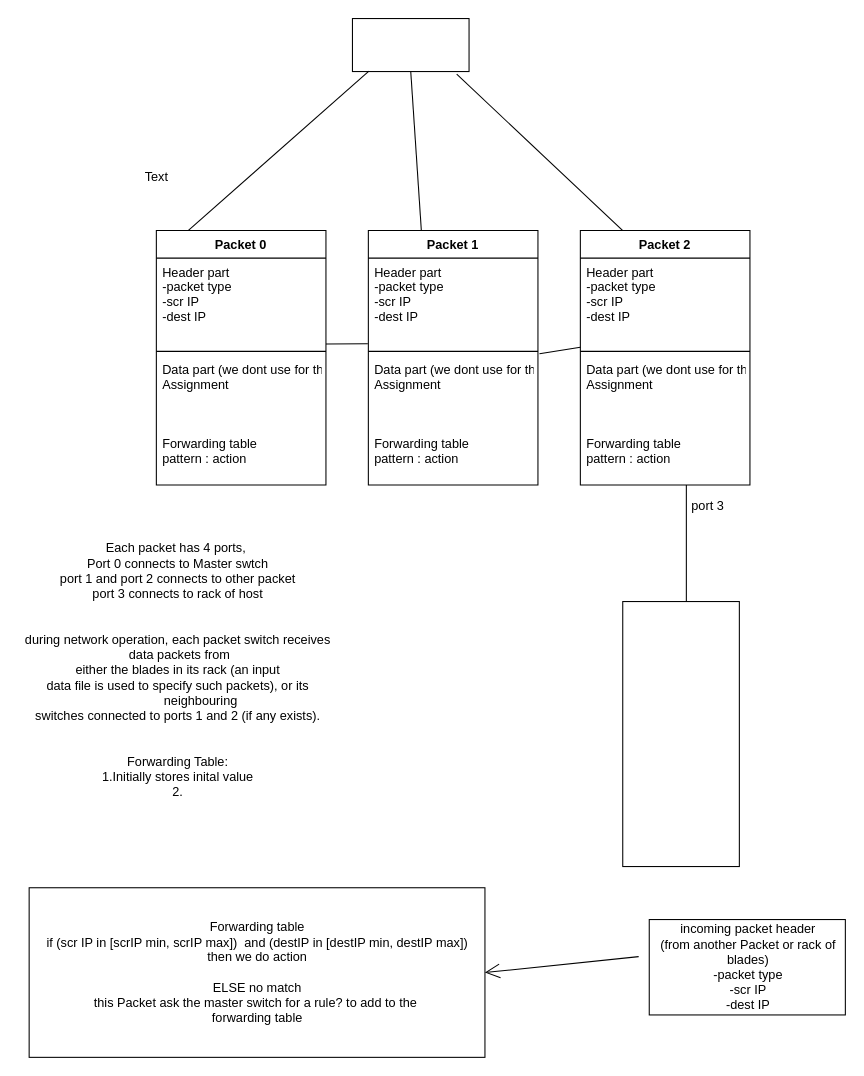
Some shapes in this 864 by 1076 pixel diagram are drawn without their labels. The centre of each missing label's shape, as x and y in pixels:
Master switch port 0 1 2, .. k - 1: the point at 410,44
racks of host/blade: the point at 680,733
